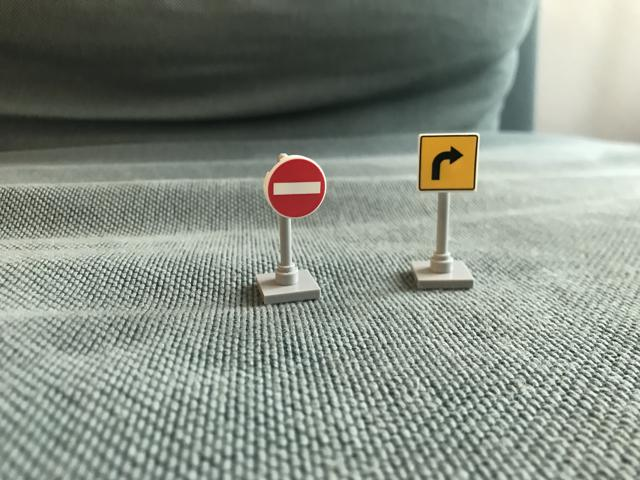fahrtrichtung rechts: (414, 129, 481, 195)
verbot der einfahrt: (263, 155, 328, 222)
